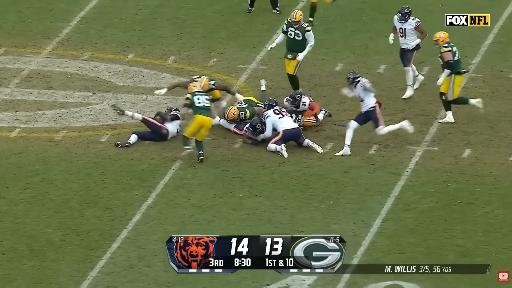Helmet: (248, 118, 265, 135), (433, 31, 449, 46), (347, 71, 362, 86), (289, 91, 303, 107), (225, 106, 239, 121), (398, 6, 411, 22), (291, 10, 303, 27), (302, 116, 316, 127), (264, 99, 278, 110), (188, 82, 202, 93), (199, 75, 209, 90), (289, 91, 303, 101), (165, 107, 179, 114)
Jersey: (282, 18, 311, 53), (394, 15, 421, 48), (263, 107, 298, 131), (188, 76, 220, 102), (439, 43, 465, 74), (354, 78, 376, 111), (186, 93, 211, 117), (236, 98, 262, 121), (189, 76, 216, 92), (284, 96, 311, 111), (164, 120, 181, 139), (288, 110, 303, 128), (244, 123, 257, 139)
Player: (336, 71, 413, 155), (434, 31, 482, 123), (257, 99, 323, 158), (268, 10, 314, 90), (155, 76, 243, 117), (389, 6, 427, 98), (112, 105, 181, 147), (182, 92, 213, 162), (214, 98, 263, 135), (284, 91, 331, 127), (243, 118, 265, 145), (309, 0, 317, 25), (270, 0, 281, 13)
